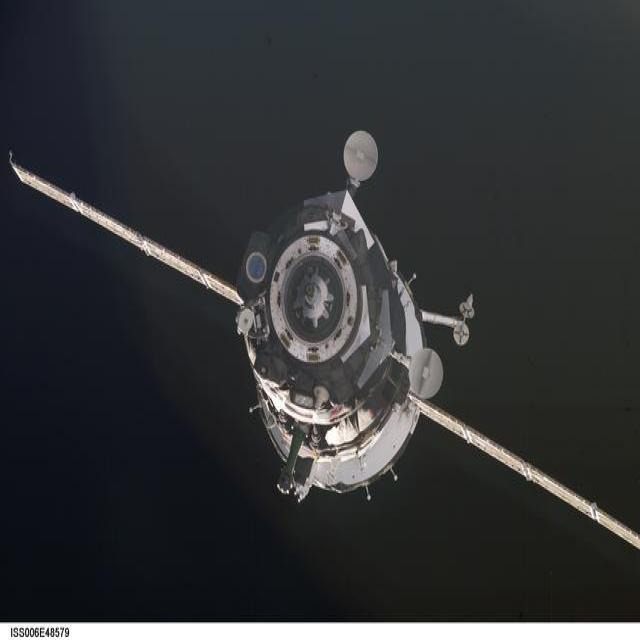medium_debris: (10, 131, 640, 549)
